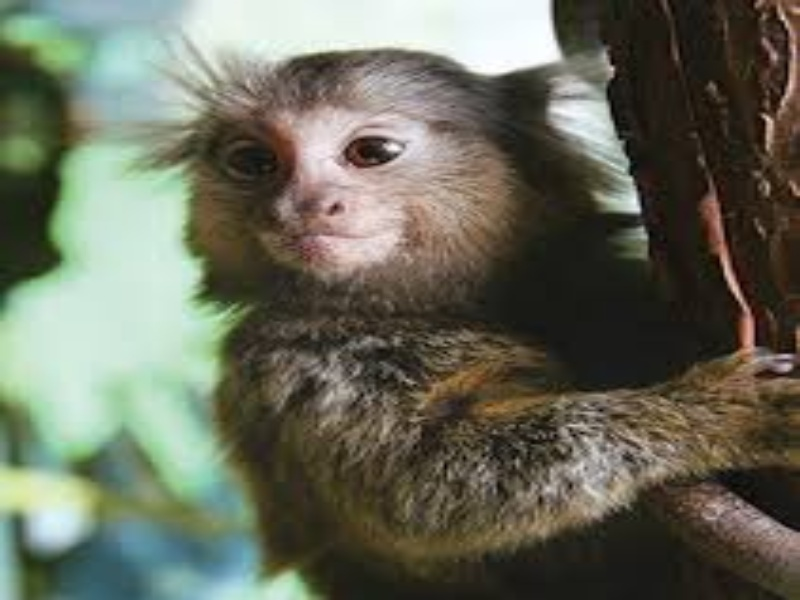monkey: (129, 30, 799, 596)
